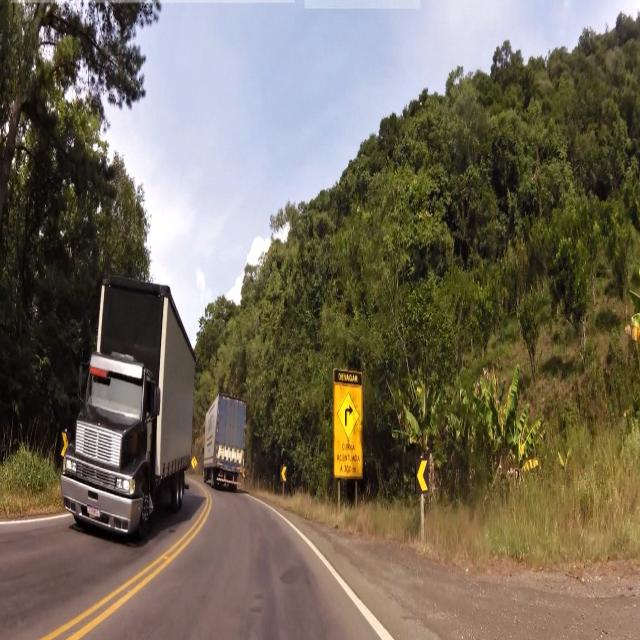A-1b: (339, 388, 359, 444)
Del: (417, 454, 432, 498)
